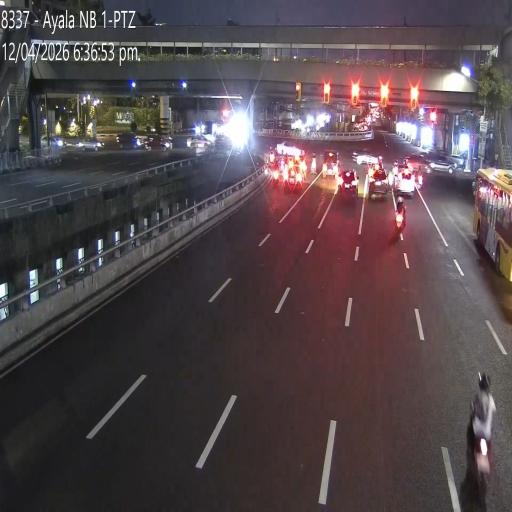Car: (368, 165, 390, 201), (394, 165, 416, 198), (404, 151, 432, 175), (338, 169, 360, 199), (425, 155, 457, 175), (282, 164, 304, 192), (276, 136, 305, 157), (322, 149, 341, 180), (117, 130, 145, 149), (352, 147, 380, 165), (187, 135, 212, 154), (77, 136, 103, 153), (146, 134, 170, 152), (368, 159, 384, 180)
Motor: (394, 194, 406, 232), (272, 160, 279, 190), (417, 164, 424, 190), (310, 151, 316, 174), (268, 145, 273, 166), (301, 149, 305, 170), (281, 148, 284, 170), (275, 146, 278, 163), (285, 152, 288, 168)
Not Accident: (392, 164, 416, 232), (405, 152, 456, 175), (282, 150, 304, 192), (368, 158, 388, 198)
